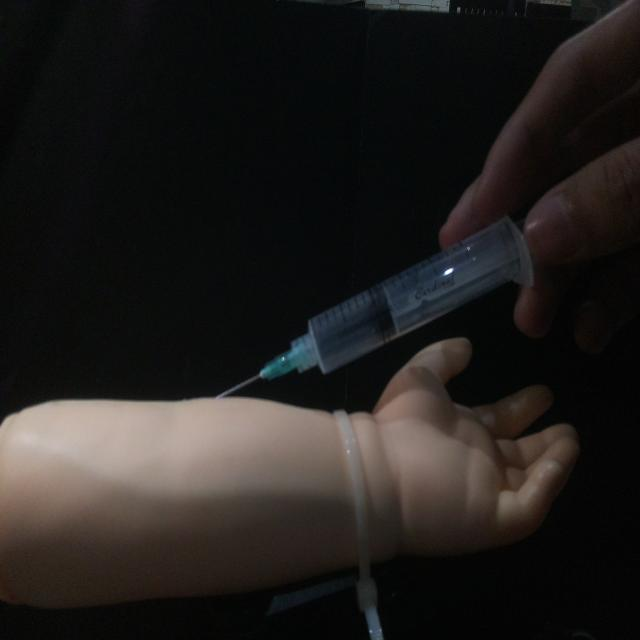19deg: (210, 210, 536, 402)
